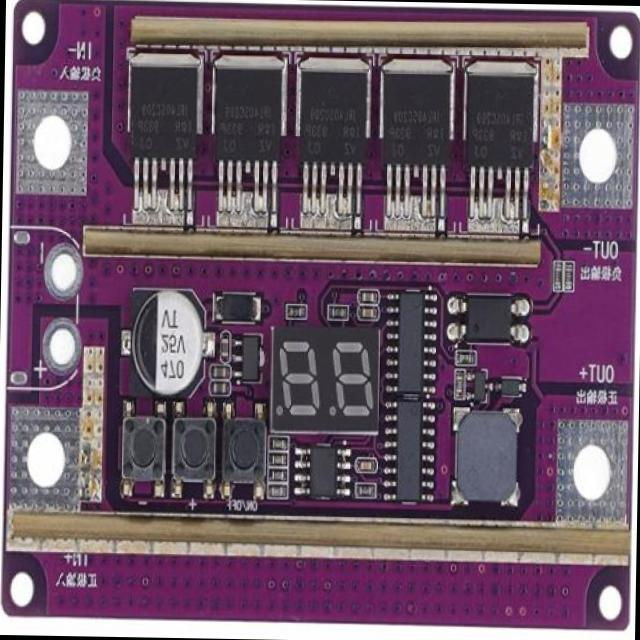IC: (459, 60, 536, 214), (127, 47, 200, 192), (382, 58, 452, 209), (298, 54, 368, 194), (211, 53, 281, 192), (390, 286, 432, 396), (391, 401, 429, 504), (451, 290, 518, 342), (306, 439, 340, 496), (238, 327, 261, 387)
capacitor: (124, 288, 203, 399), (358, 305, 378, 320), (210, 363, 228, 378), (358, 458, 373, 474), (220, 334, 228, 362), (210, 381, 226, 395), (360, 289, 378, 301)
diode: (214, 291, 257, 325), (498, 374, 525, 402)
resistor: (328, 300, 348, 324), (550, 262, 564, 290), (270, 433, 289, 452), (453, 372, 464, 402), (284, 303, 304, 319), (564, 264, 574, 294), (269, 466, 287, 482), (268, 450, 288, 464), (456, 349, 471, 367), (269, 484, 285, 496), (357, 485, 372, 496)
transistor: (470, 369, 492, 404)
